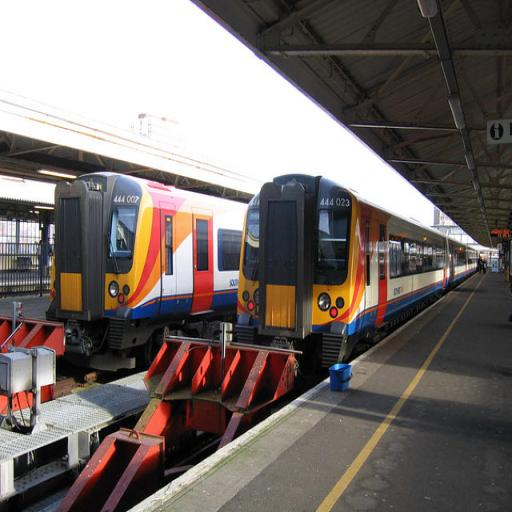platform_edge: (135, 415, 405, 512), (386, 282, 498, 382)
